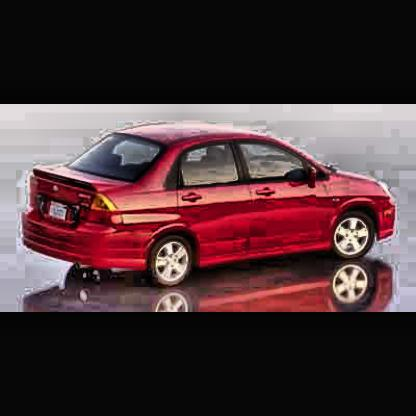Suzuki Aerio Sedan 2007: (24, 125, 400, 289)
